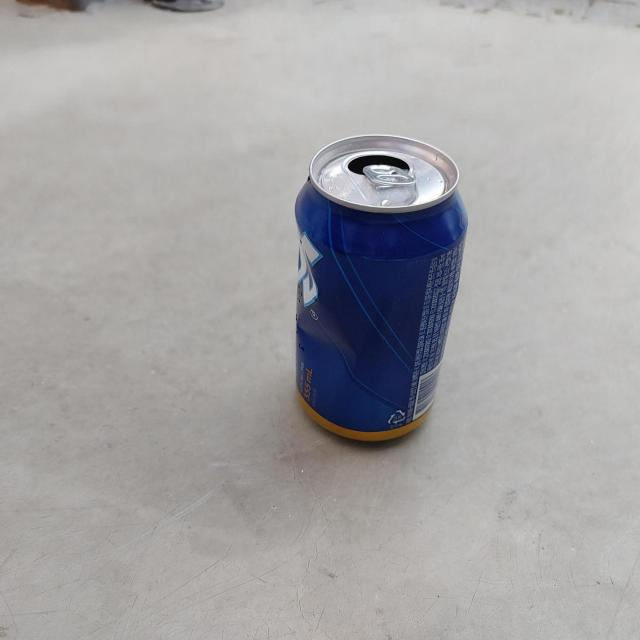can: (295, 134, 468, 442)
